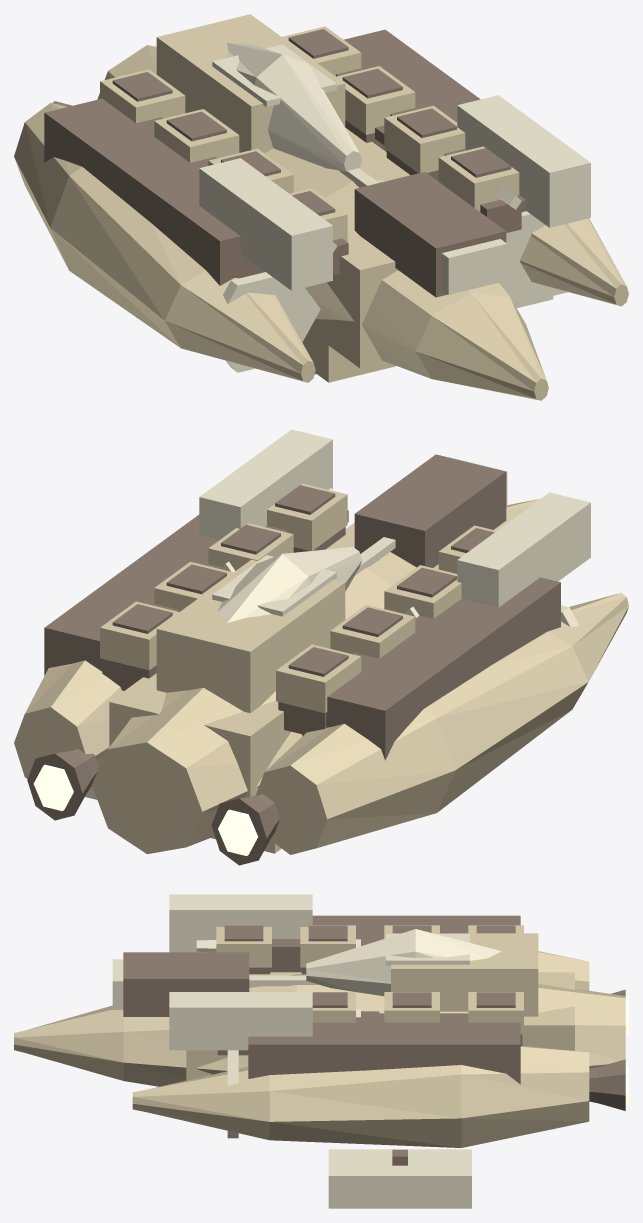
The picture shows the model from 3 angles, top to bottom: view 1: azimuth 30°, elevation 25°; view 2: azimuth 150°, elevation 25°; view 3: azimuth 270°, elevation 25°; orthographic projection. The views are drawn at different scales.
Bounding box in the file's own units: 14.54 × 8.34 × 23.41.
